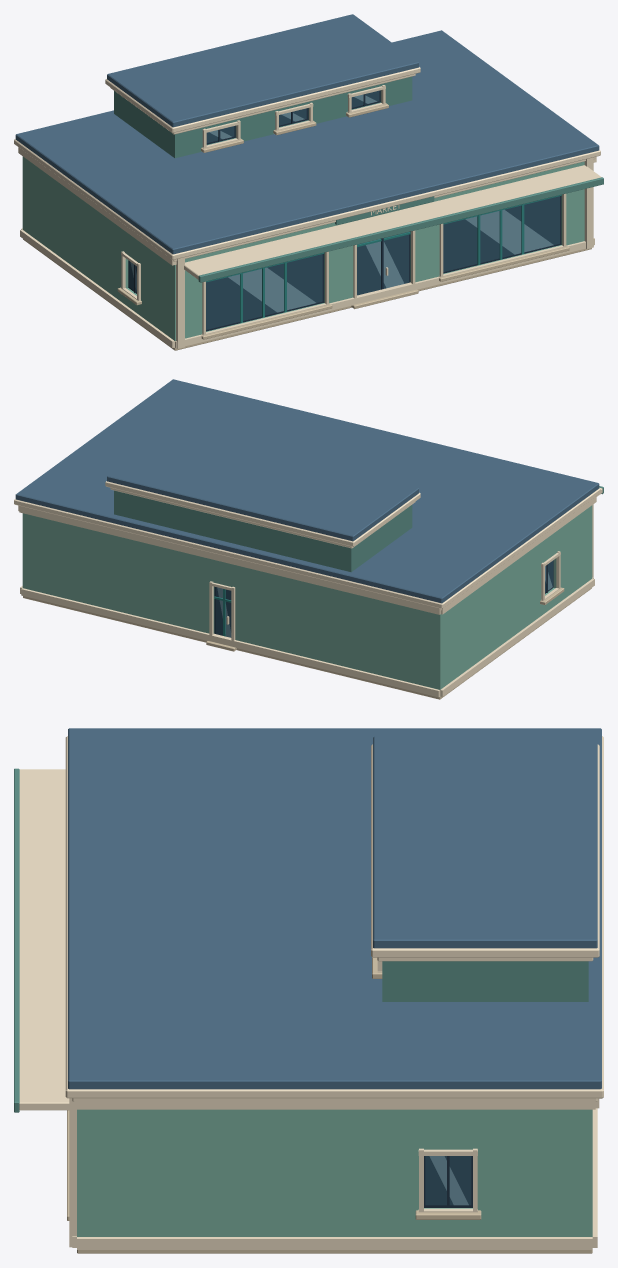
The model's file is supermarket.glb.
3 renders of one model, top to bottom at view 1: azimuth 30°, elevation 25°; view 2: azimuth 150°, elevation 25°; view 3: azimuth 270°, elevation 25°, orthographic. The views are drawn at different scales.
Visible parts, largest first — view 1: Supermarket_StaticMesh; view 2: Supermarket_StaticMesh; view 3: Supermarket_StaticMesh.
Part boxes in pixels (x1,y1,x2,y2): Supermarket_StaticMesh: (14,14,603,350); Supermarket_StaticMesh: (14,379,603,699); Supermarket_StaticMesh: (14,728,603,1253).
Bounding box in the file's own units: 19.52 × 6.26 × 13.73.
